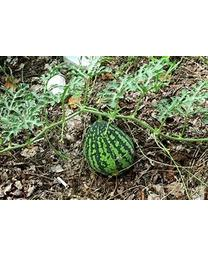watermelon: (81, 119, 137, 176)
